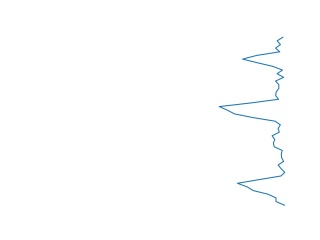underwaterNaturalLevee: (215, 36, 290, 206)
